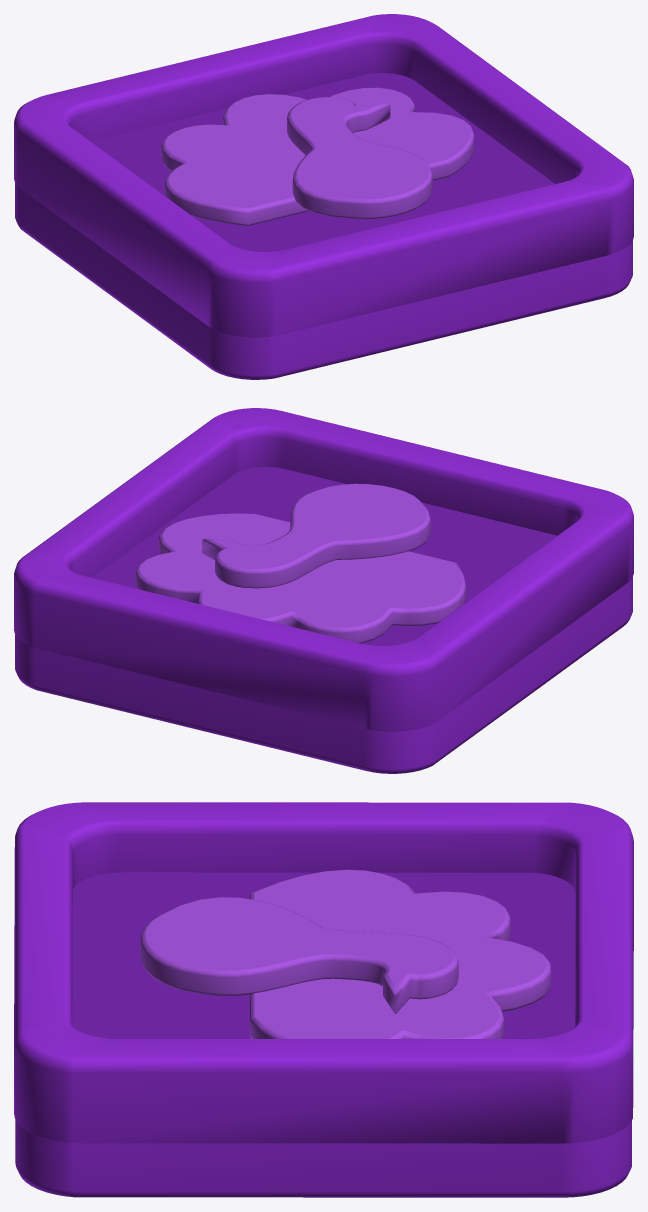
File: tile_peacock.glb
3 renders of one model, top to bottom at view 1: azimuth 30°, elevation 25°; view 2: azimuth 150°, elevation 25°; view 3: azimuth 270°, elevation 25°, orthographic. The views are drawn at different scales.
Parts seen in each view (by area): view 1: peacock_rounded_rim, peacock_base, peacock_fan, peacock_recess, peacock_body; view 2: peacock_rounded_rim, peacock_base, peacock_fan, peacock_recess, peacock_body; view 3: peacock_rounded_rim, peacock_base, peacock_recess, peacock_fan, peacock_body.
Boxes of the visible parts, x1,y1,x2,y2 form: peacock_rounded_rim: [14, 14, 633, 337]; peacock_base: [15, 183, 632, 379]; peacock_fan: [161, 87, 474, 225]; peacock_recess: [91, 73, 555, 251]; peacock_body: [287, 97, 432, 219]; peacock_rounded_rim: [14, 408, 633, 731]; peacock_base: [15, 577, 632, 773]; peacock_fan: [135, 513, 466, 643]; peacock_recess: [93, 467, 556, 645]; peacock_body: [202, 483, 430, 588]; peacock_rounded_rim: [14, 802, 633, 1143]; peacock_base: [15, 1119, 631, 1197]; peacock_recess: [72, 872, 575, 1039]; peacock_fan: [249, 869, 550, 1038]; peacock_body: [140, 897, 458, 1013].
Bounding box in the file's own units: 1 × 0.253 × 1.
